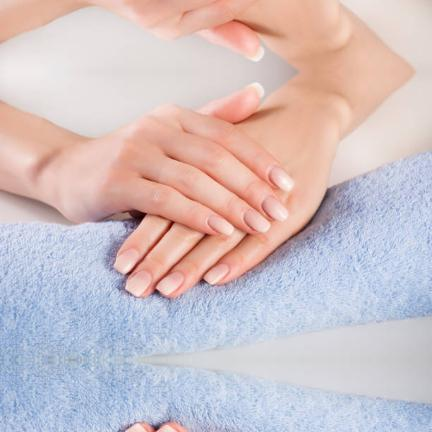Nail: (126, 270, 152, 297), (114, 248, 140, 274), (262, 196, 289, 221), (156, 272, 184, 296), (269, 166, 294, 192), (244, 210, 270, 232), (203, 264, 229, 286), (208, 215, 234, 235), (126, 423, 148, 432), (156, 424, 178, 432)
